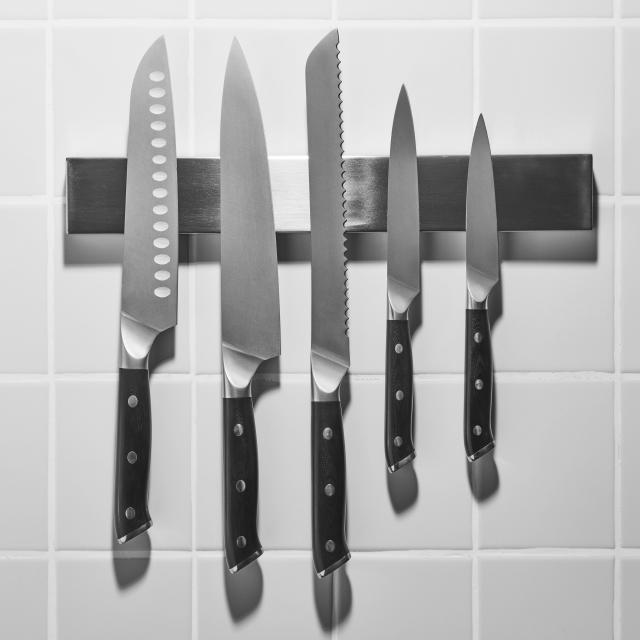Weapon: (114, 36, 178, 542), (220, 38, 280, 572), (464, 114, 499, 462)
